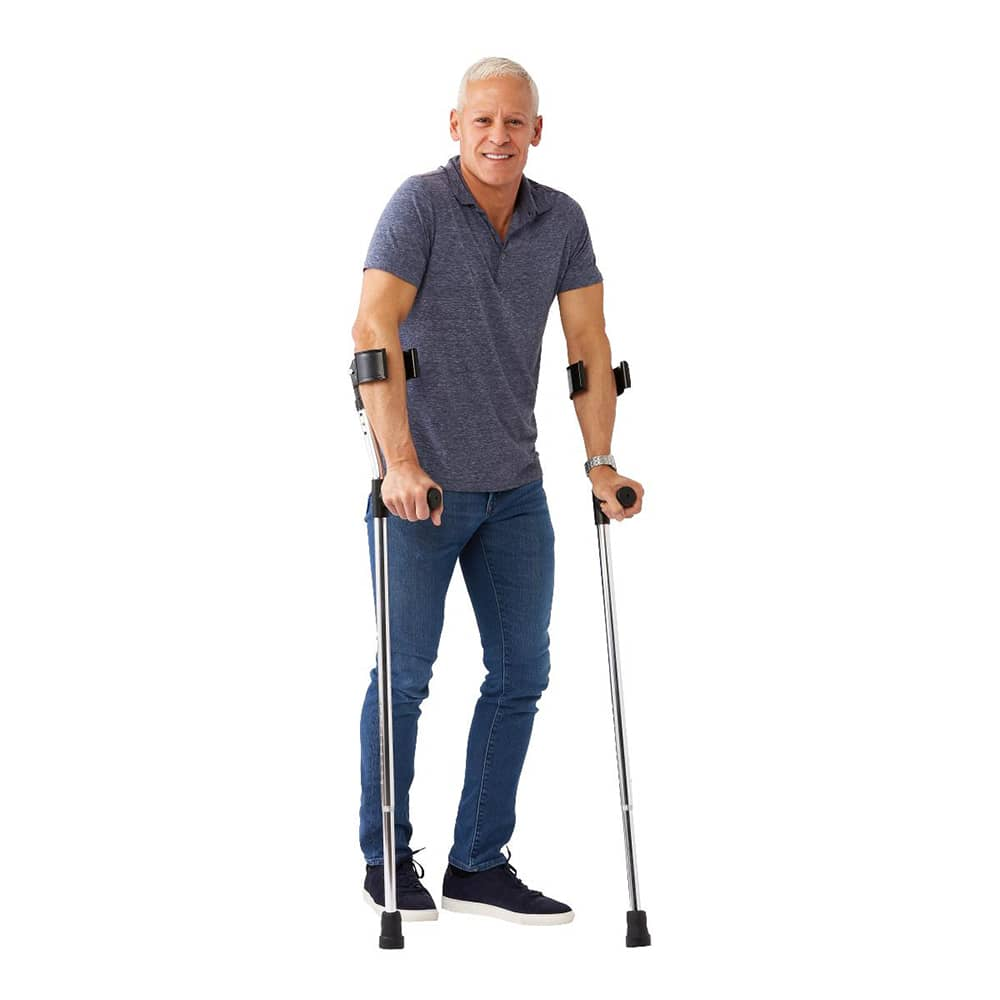crutches: (347, 55, 652, 948)
